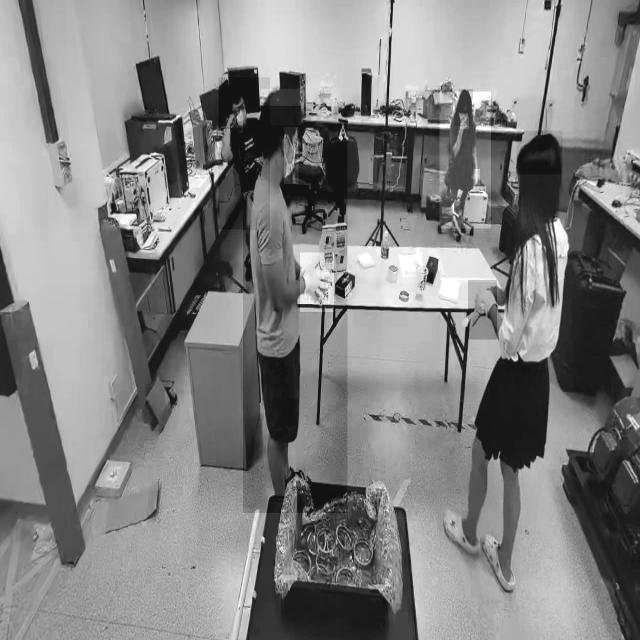face_mask: (284, 127, 298, 184), (454, 100, 472, 126)
hand_glove: (300, 252, 334, 312), (468, 280, 497, 340)
hand_noglove: (225, 111, 237, 129), (460, 116, 469, 129), (474, 169, 480, 185)
head_nohelmet: (516, 131, 562, 174), (260, 89, 304, 125), (228, 84, 245, 97), (459, 89, 473, 99)
person: (441, 119, 573, 597), (242, 106, 348, 514), (218, 78, 270, 230), (439, 92, 491, 228)
